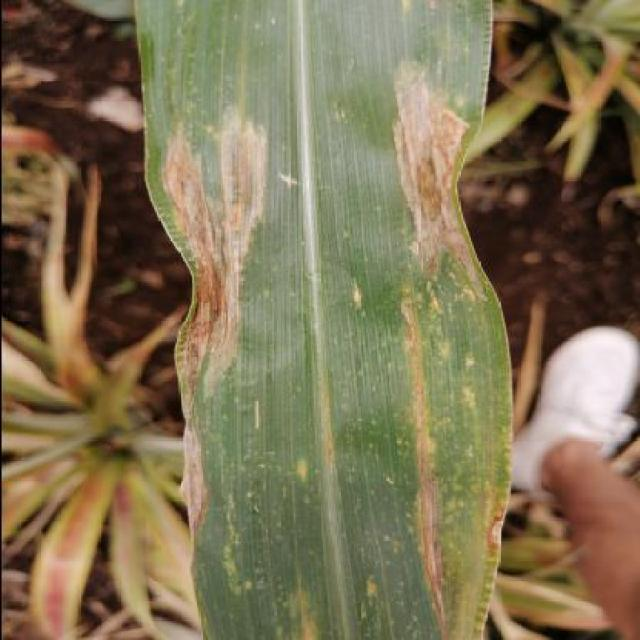Corn_Leaf_Blight: (142, 9, 516, 640)
